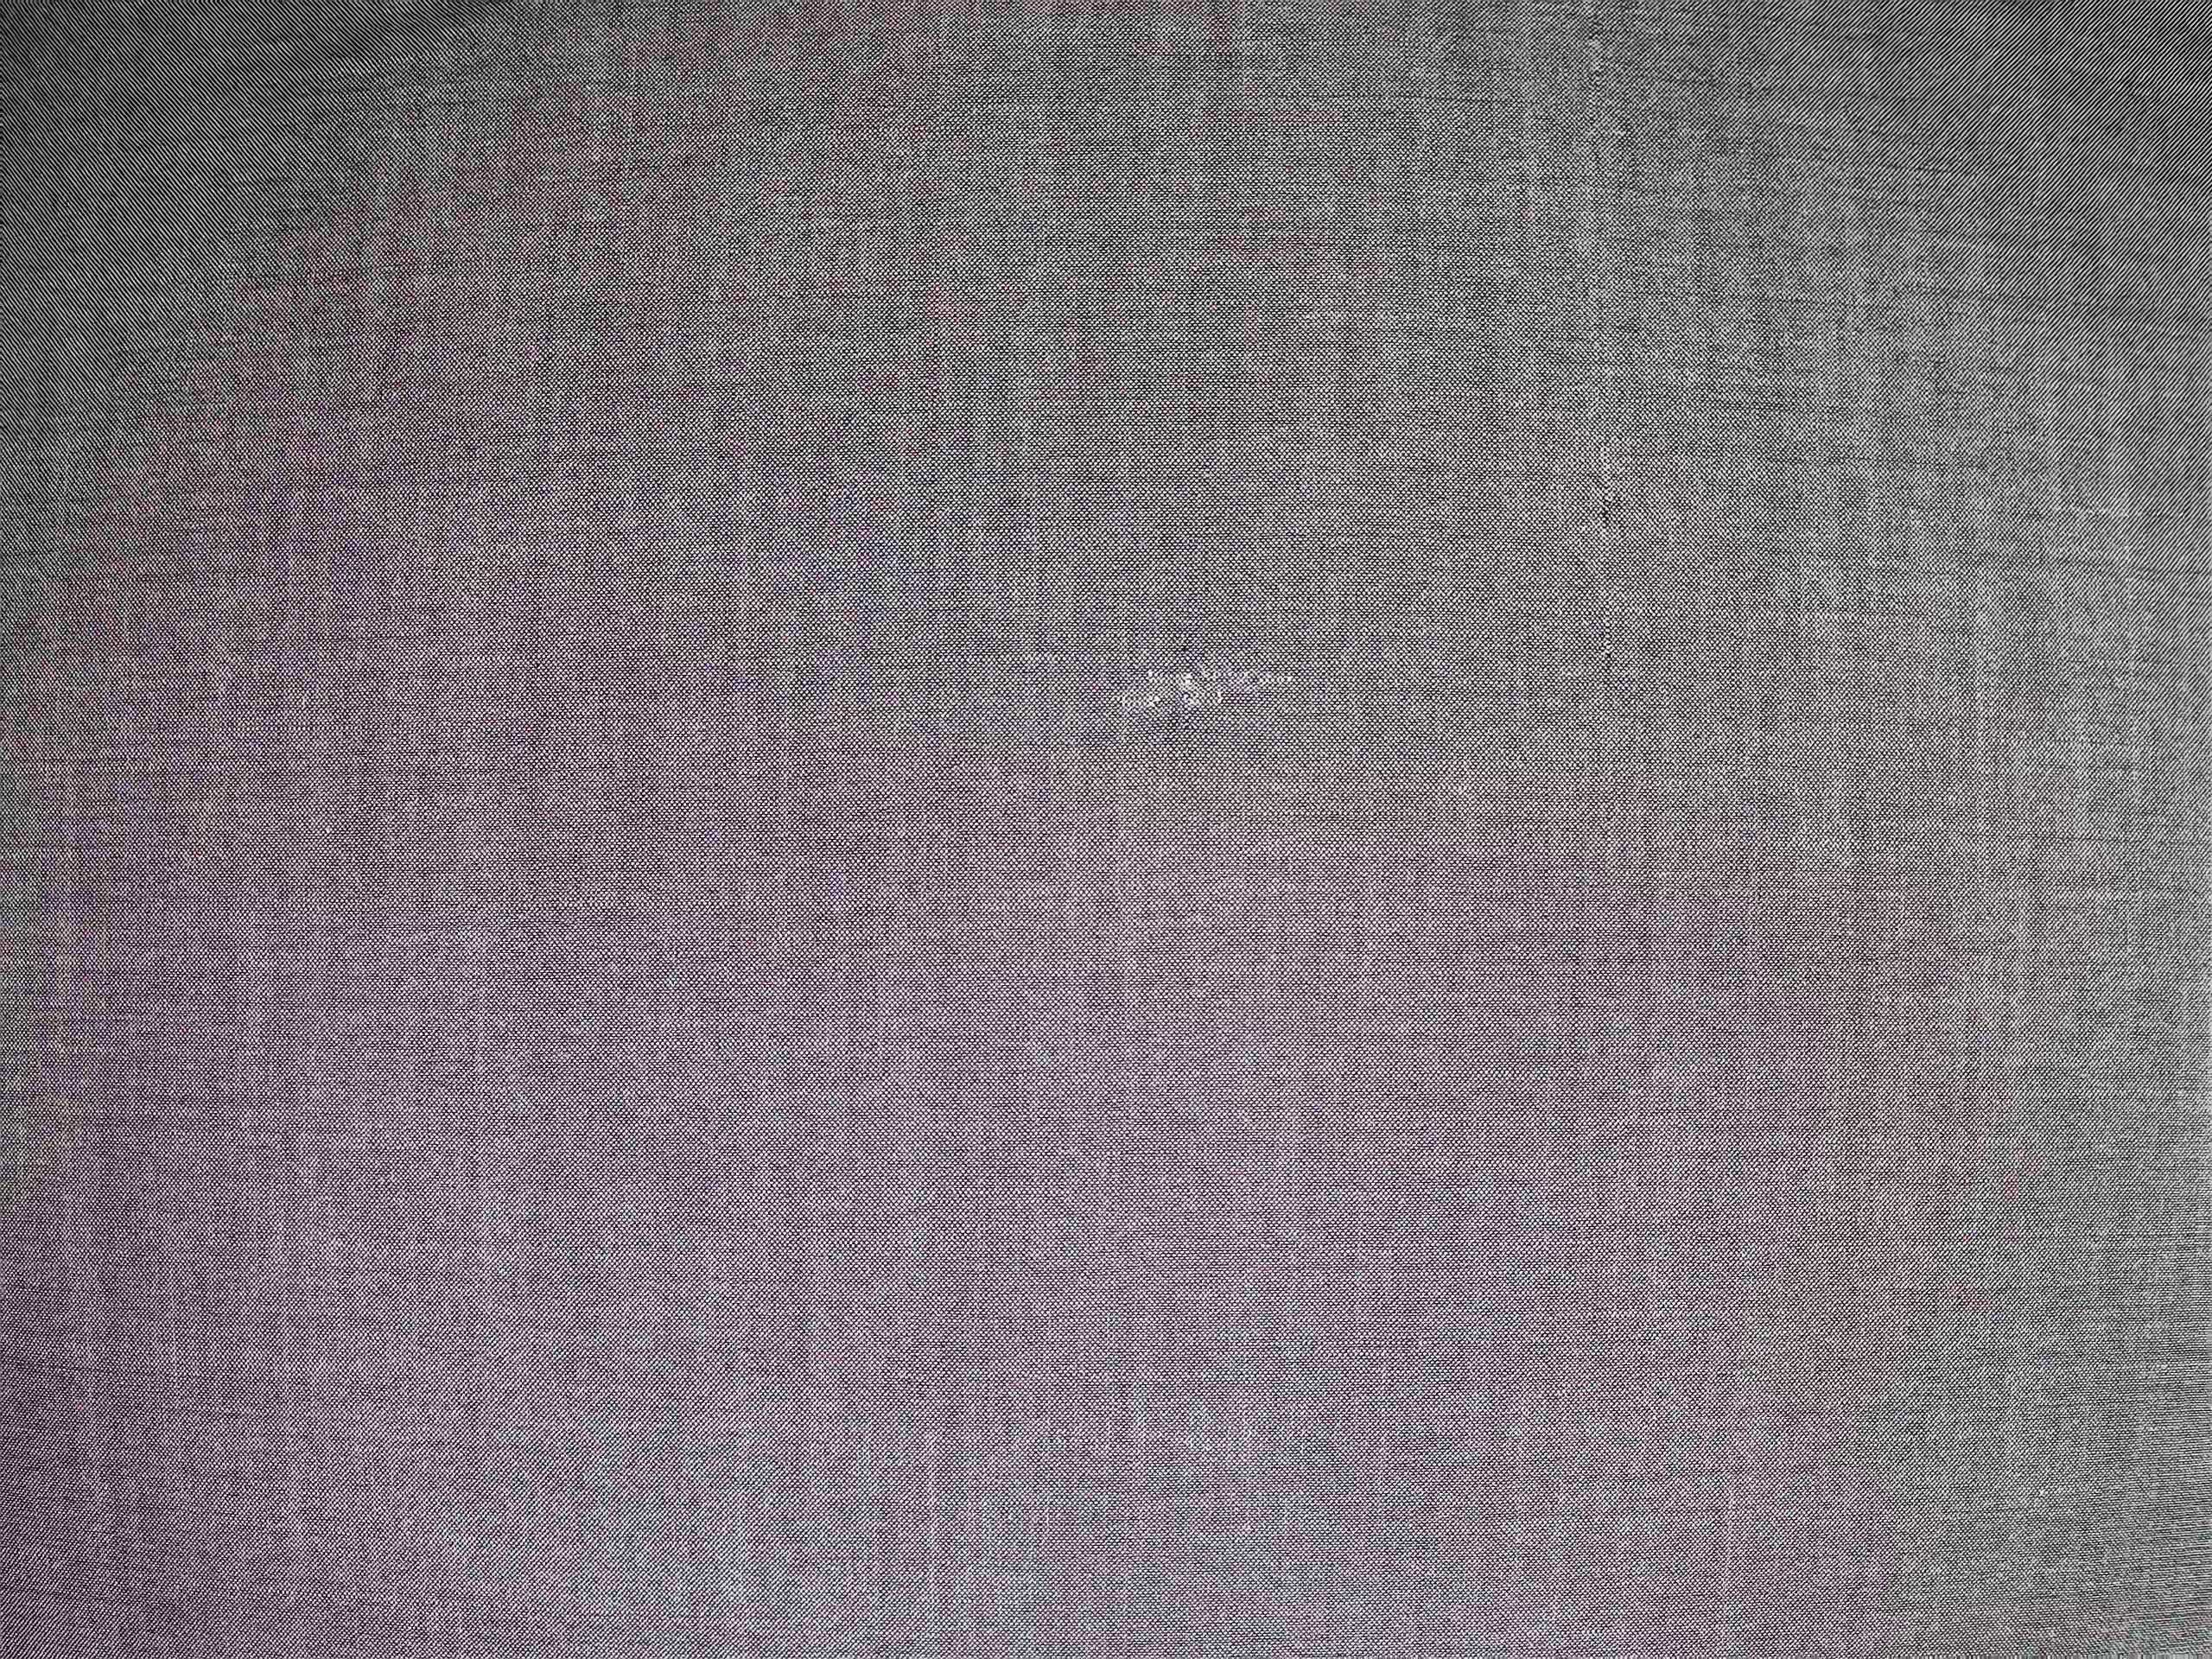hanging-warp: (1578, 3, 1635, 725), (1085, 640, 1327, 734)
